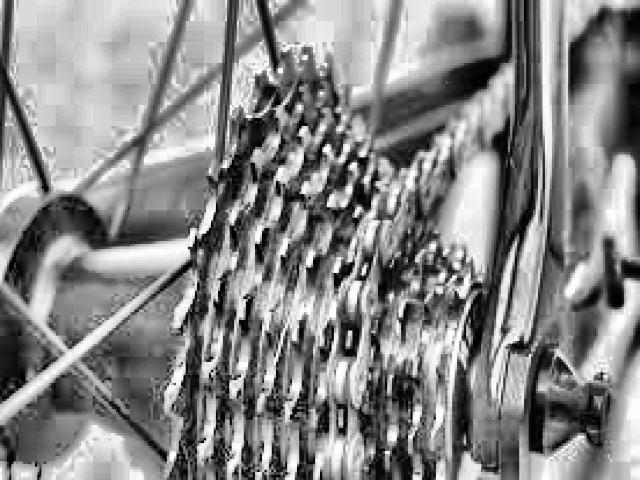cassette: (161, 42, 490, 480)
